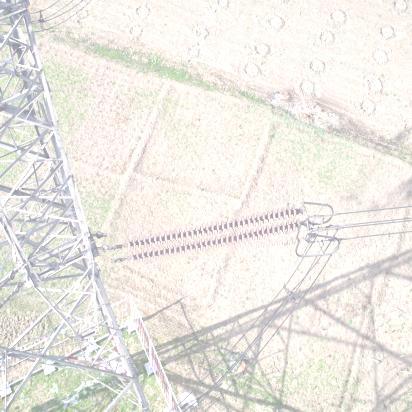insulator: (109, 208, 309, 262)
